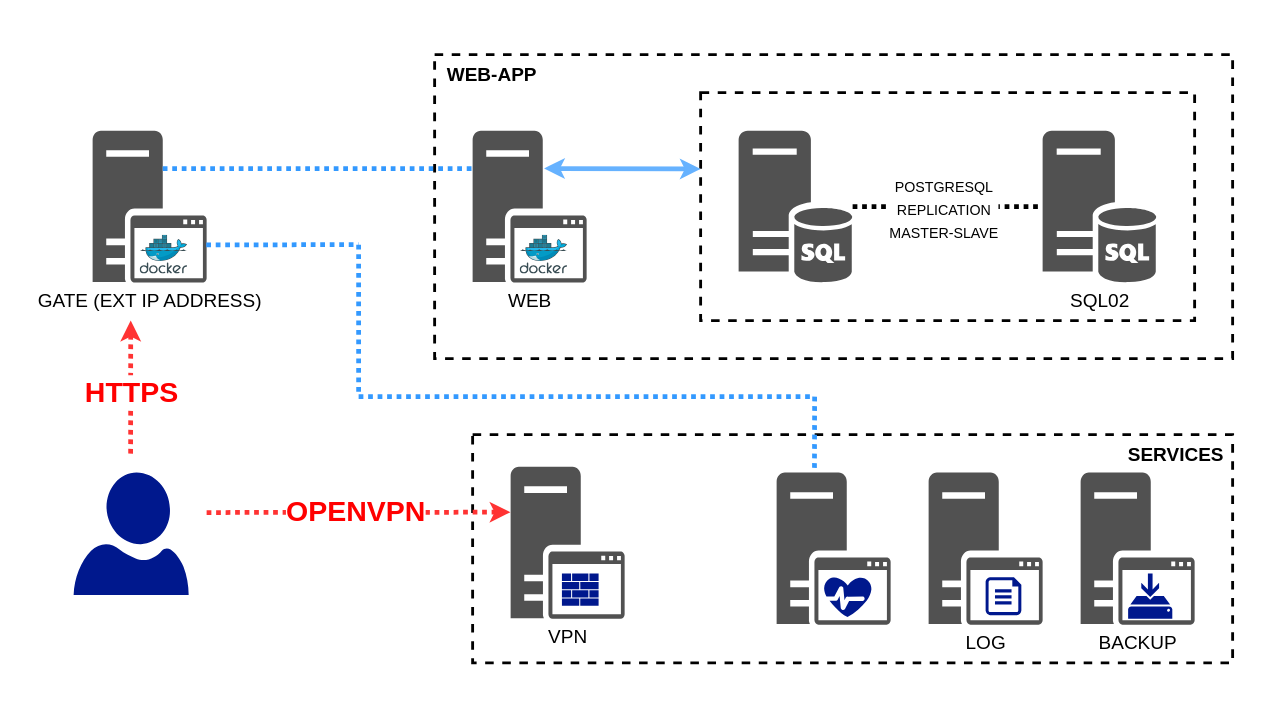
This 1287x727 diagram has some shape labels left out. Here are the shapes that lost their labels. From the top down, the centre of each, then its label:
point (795, 206): SQL01
point (833, 548): MON
